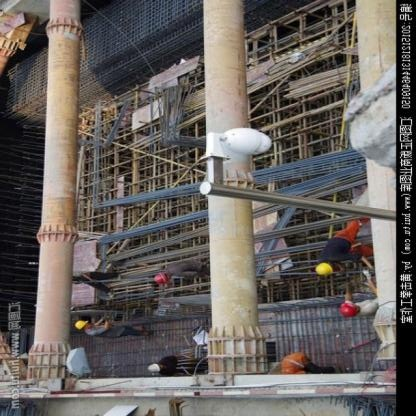red: (336, 300, 360, 319), (152, 270, 168, 282)
white: (146, 362, 159, 373)
yellow: (312, 261, 336, 277), (73, 319, 88, 330)
